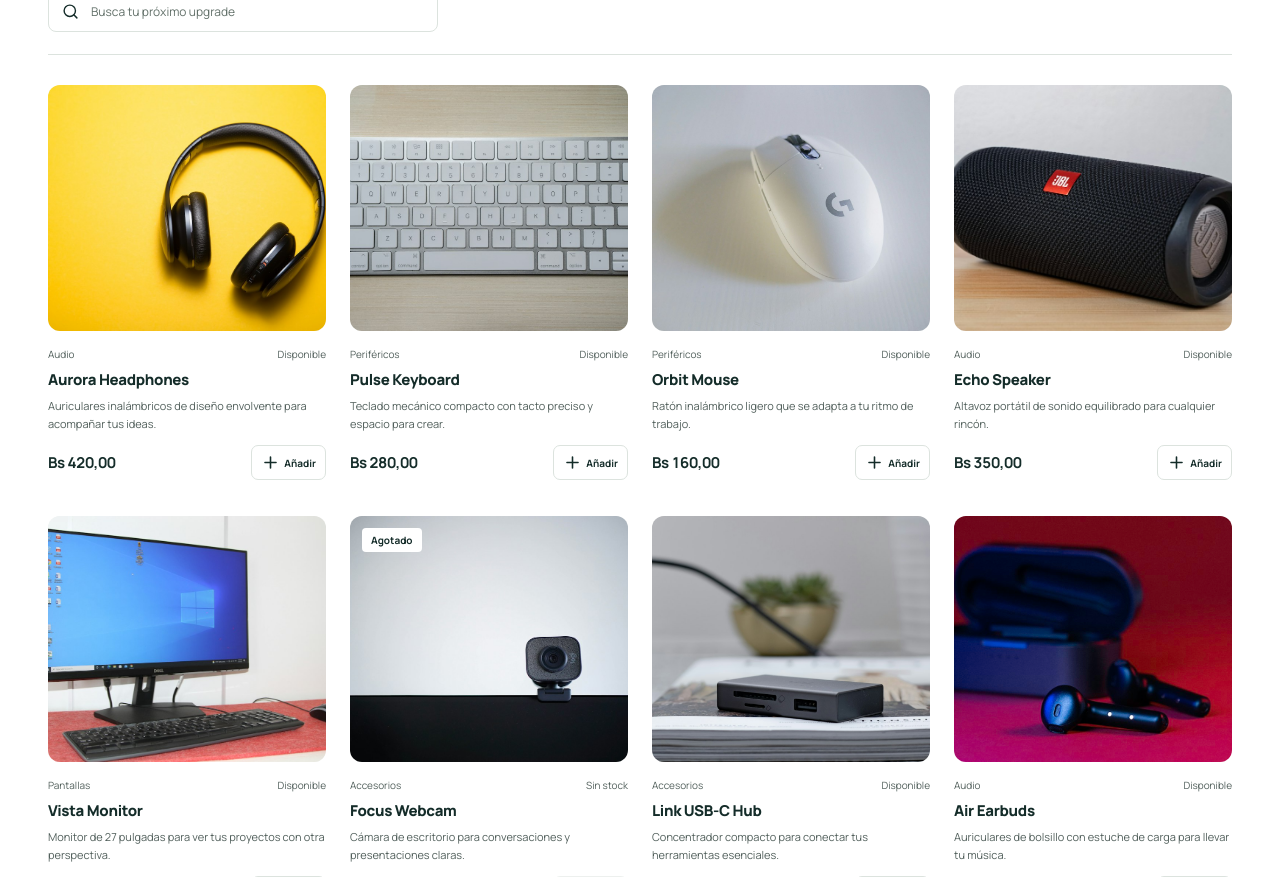
Recorrido de compra › permite añadir un producto, revisar su resumen y eliminarlo
This screenshot has width=1280, height=877.
(page scrolled)
Click the button "Añadir" next to "Bs 420,00" at (289, 463), box [251,445,326,480]
(page scrolled)
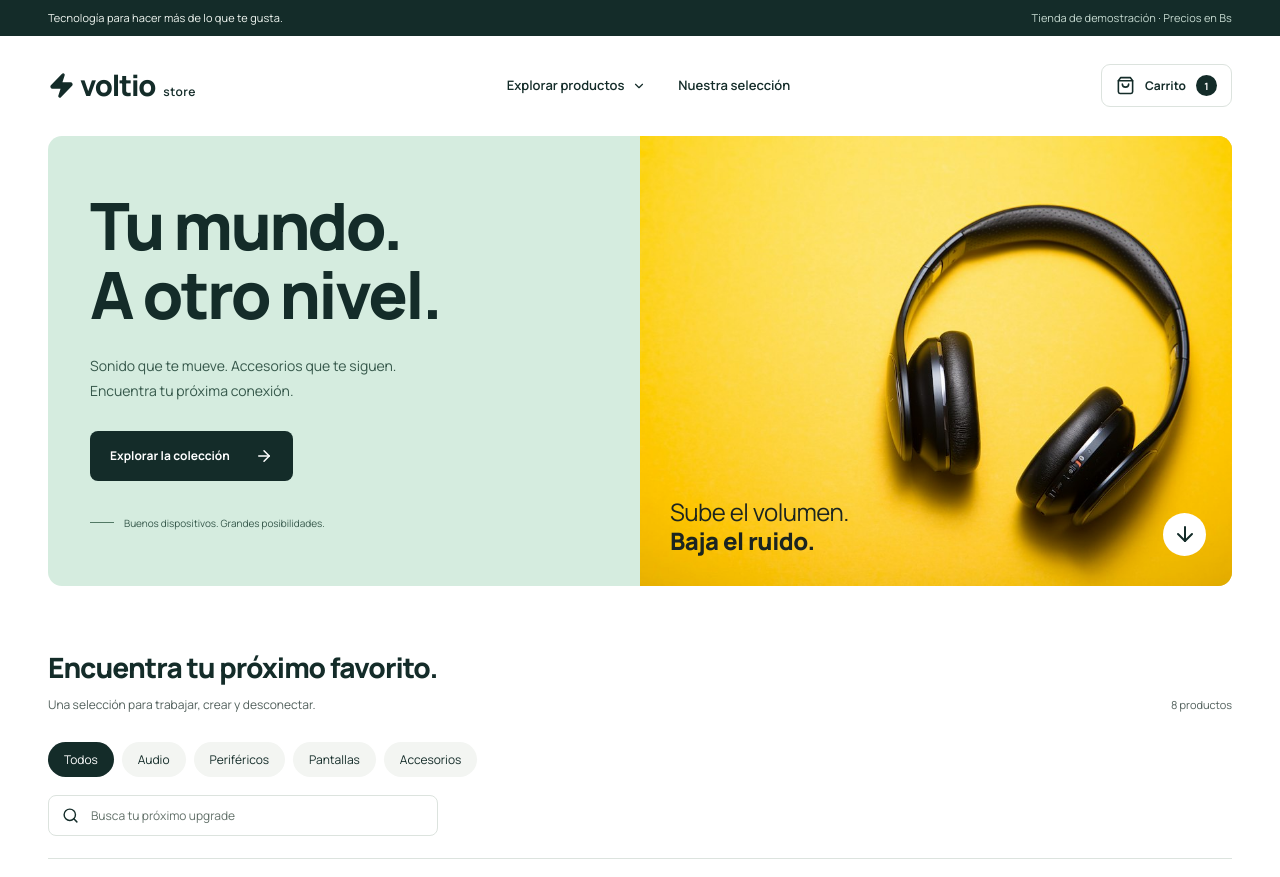
Click the button "Carrito 1" at (1166, 86), box [1101,64,1232,107]
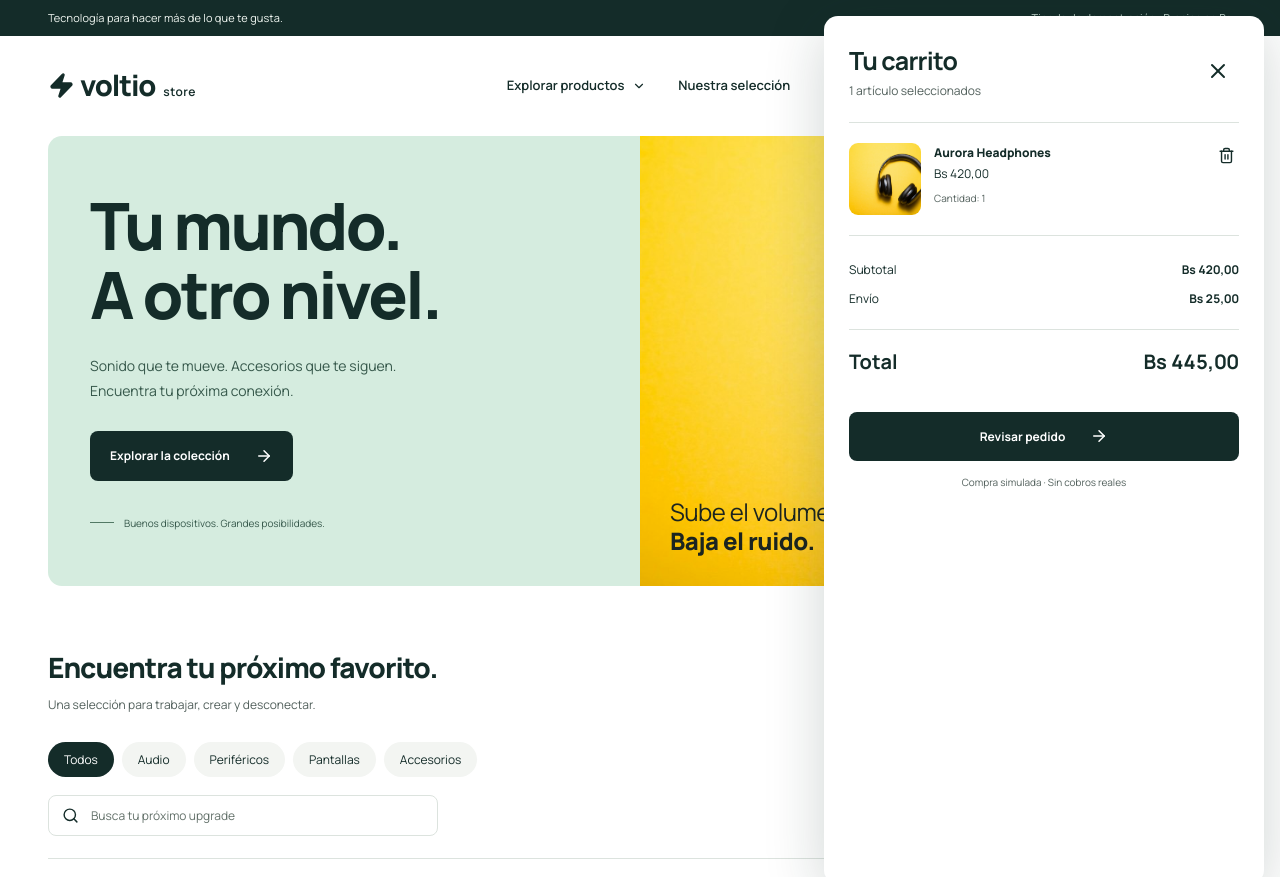
Now the heading "Aurora Headphones" is shown, box [934,144,1051,161]
Click the button "Revisar pedido" at (1044, 436), box [849,412,1239,461]
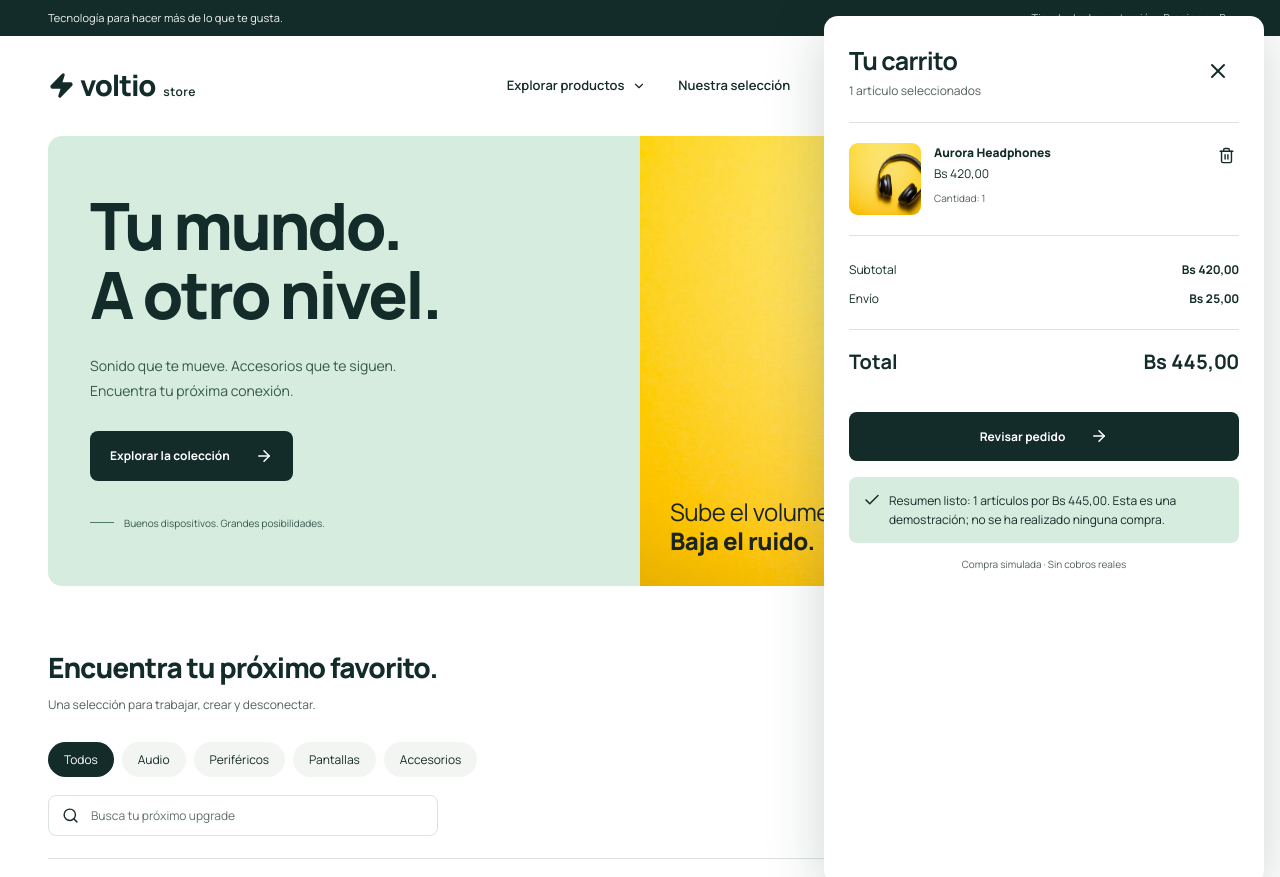
Now the text "no se ha realizado ninguna compra" is shown, box [889,492,1176,528]
Click the button named "Eliminar Aurora Headphones" at (1226, 156), box [1214,143,1239,168]
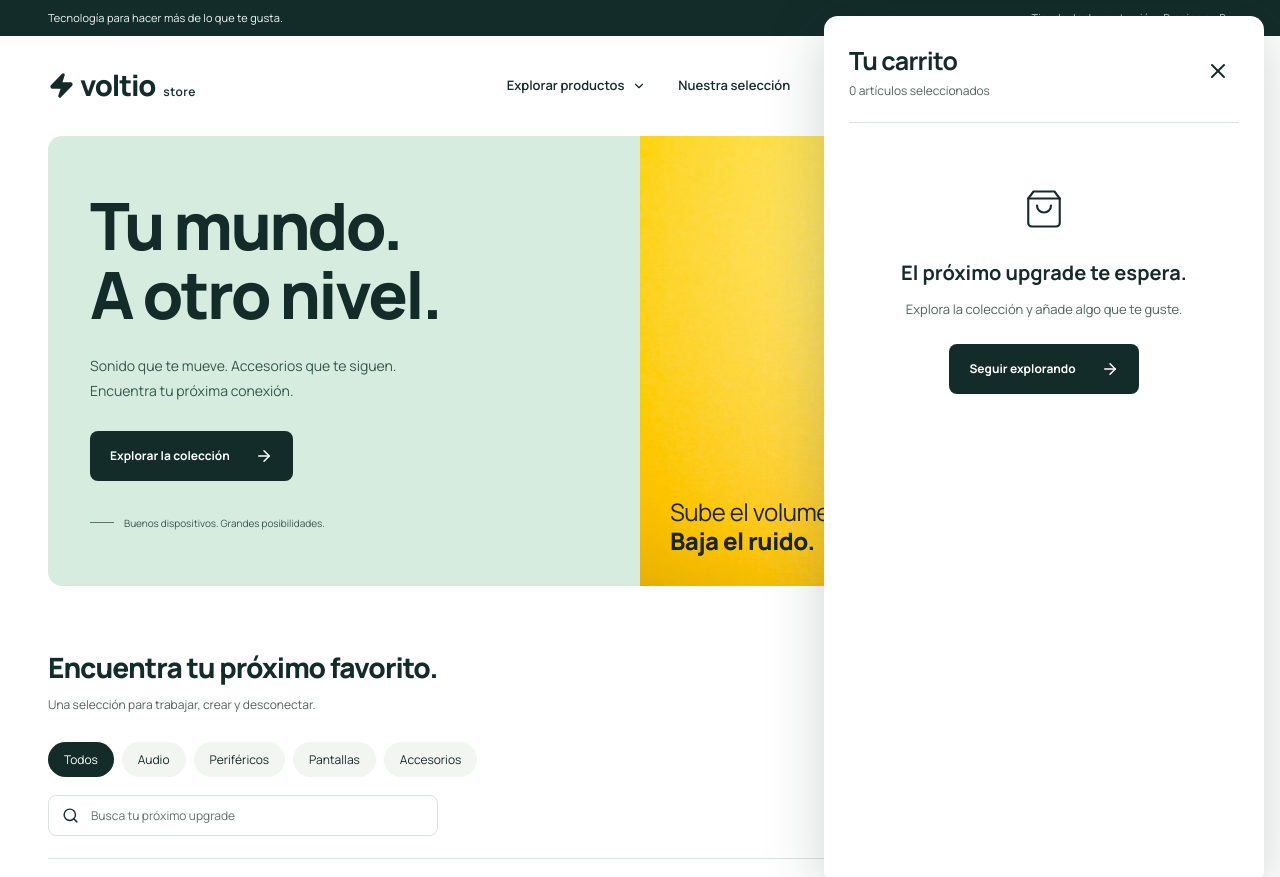
Now the heading "El próximo upgrade te espera." is shown, box [901,259,1187,286]
